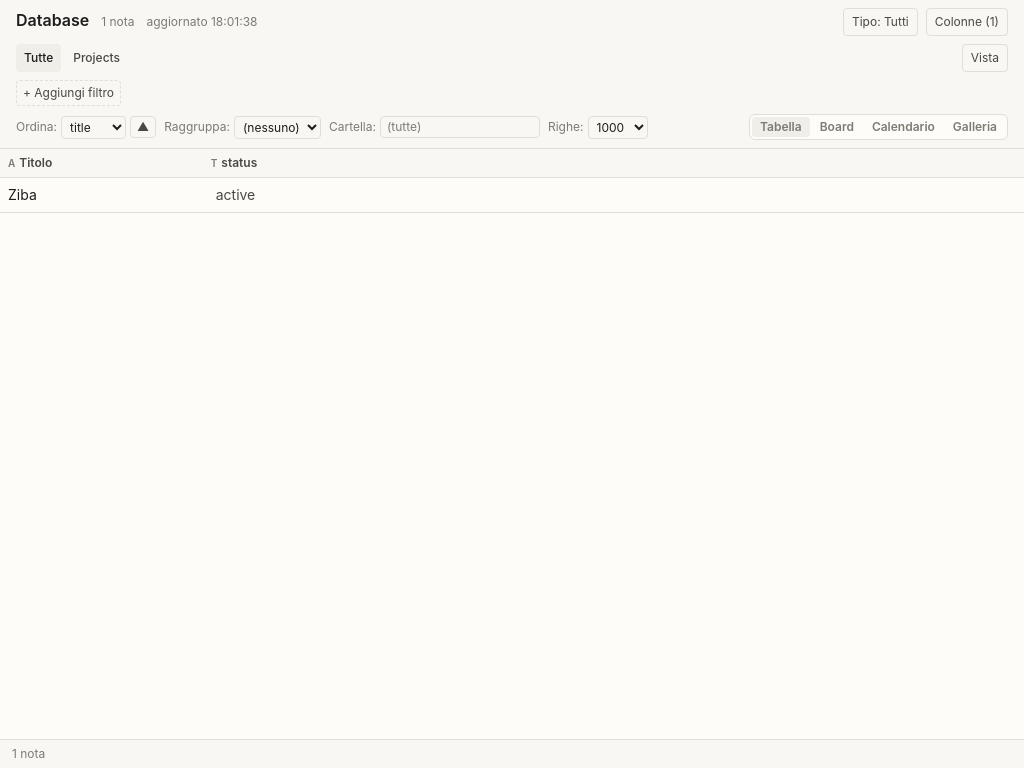
Test: <DatabaseView> › keeps one tab when a duplicate event arrives before the duplicate request resolves
Check: the tab "Tutte" is shown, box [16, 44, 61, 72]
Step 1. Click the tab "Projects" → (97, 58), box [65, 44, 128, 72]
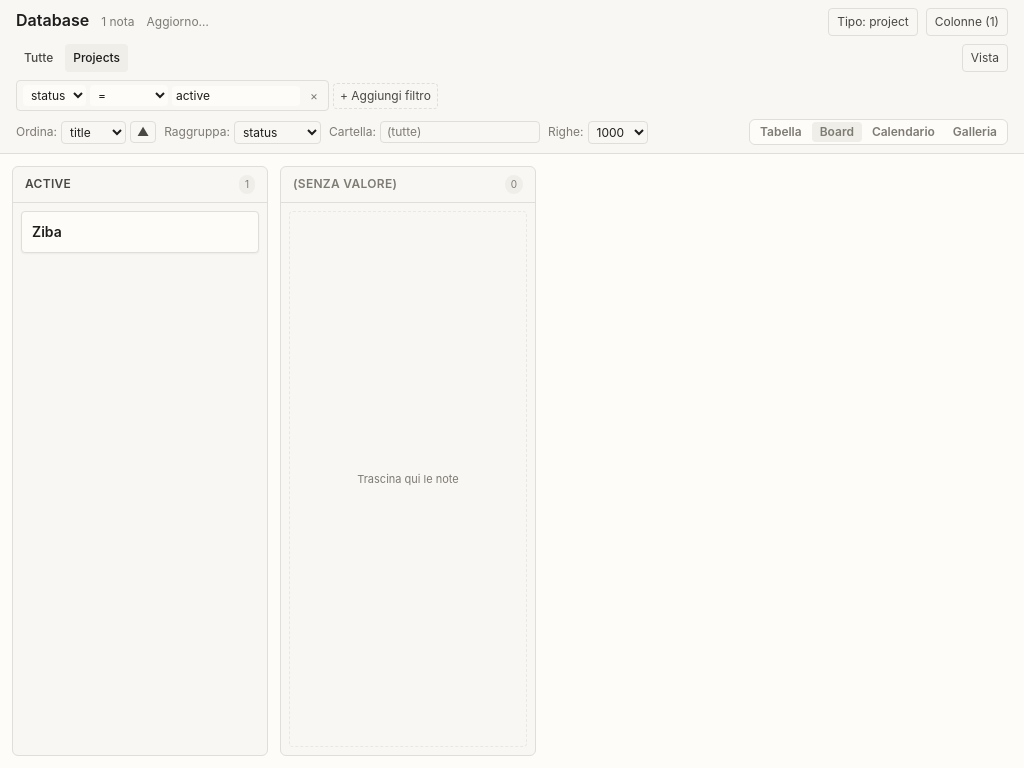
Step 2. Click the button "Vista" → (985, 58), box [962, 44, 1008, 72]
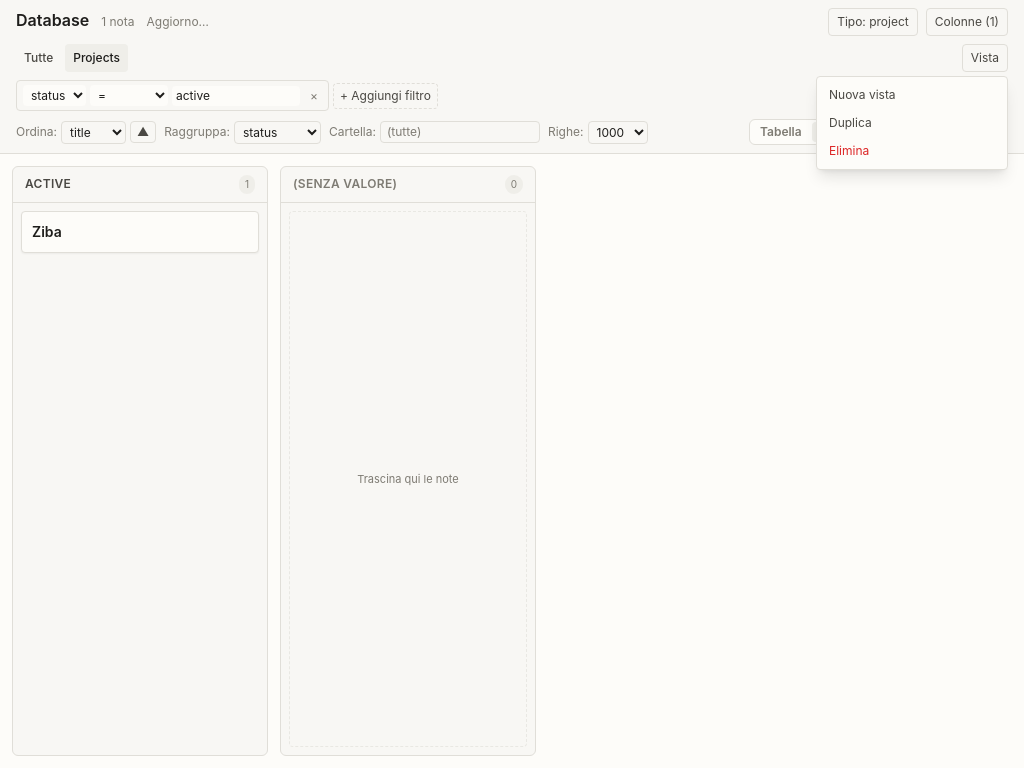
Step 3. Click the menu item "Duplica" → (912, 123), box [821, 109, 1003, 137]
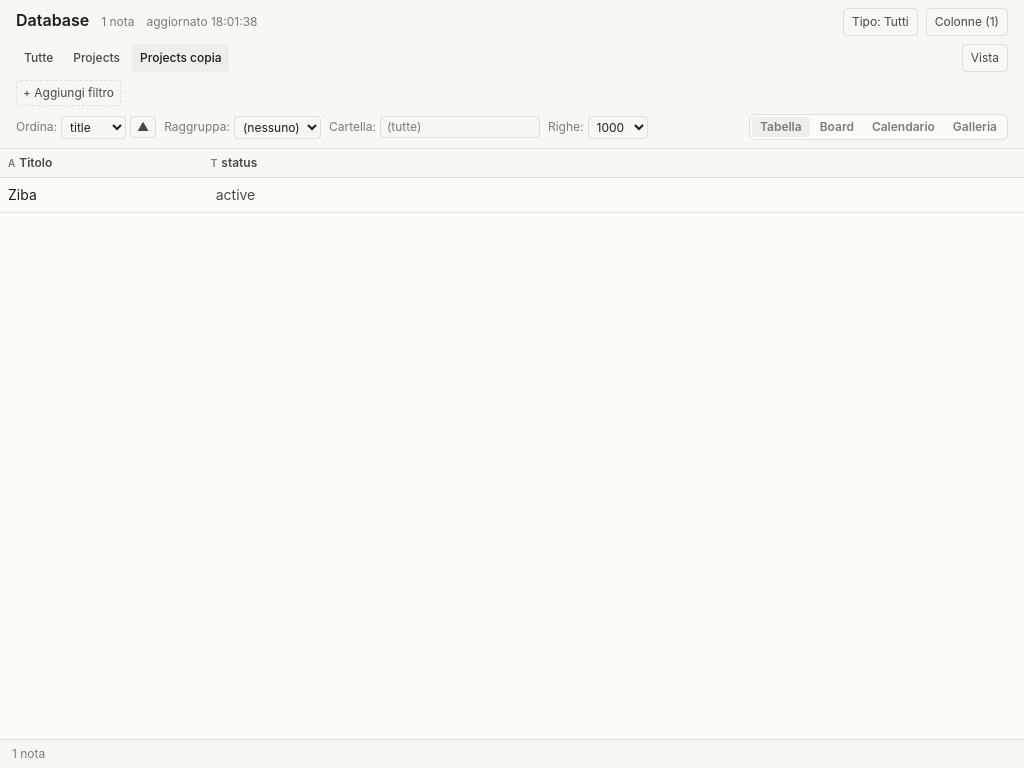
Check: the number of tabs "Projects copia" is 1, box [132, 44, 229, 72]
